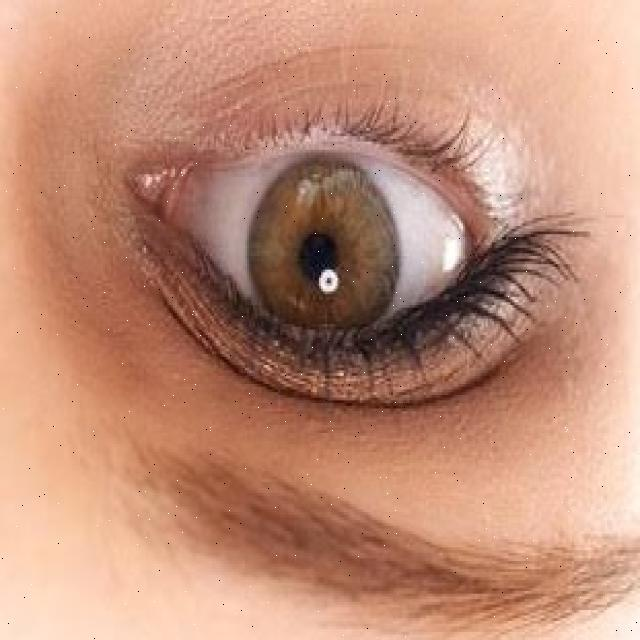Normal: (249, 157, 400, 352)
